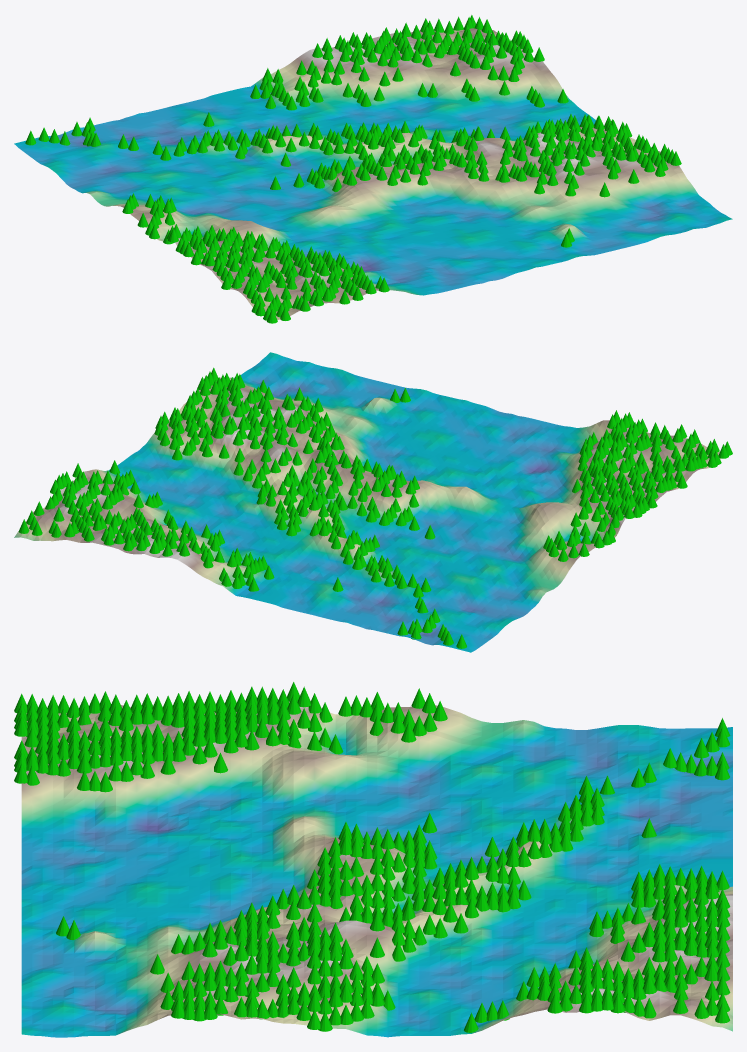
The model's file is 000005_with_tree.glb.
The picture shows the model from 3 angles, top to bottom: view 1: azimuth 30°, elevation 25°; view 2: azimuth 150°, elevation 25°; view 3: azimuth 270°, elevation 25°; orthographic projection. The views are drawn at different scales.
Parts seen in each view (by area): view 1: terrain, trees; view 2: terrain, trees; view 3: terrain, trees.
Part boxes in pixels (bbox=[...]): terrain: bbox=[14, 28, 732, 319]; trees: bbox=[25, 15, 681, 323]; terrain: bbox=[14, 352, 720, 652]; trees: bbox=[18, 367, 732, 648]; terrain: bbox=[21, 701, 732, 1037]; trees: bbox=[14, 682, 730, 1032].
Bounding box in the file's own units: 0.0193 × 0.00154 × 0.0185.
